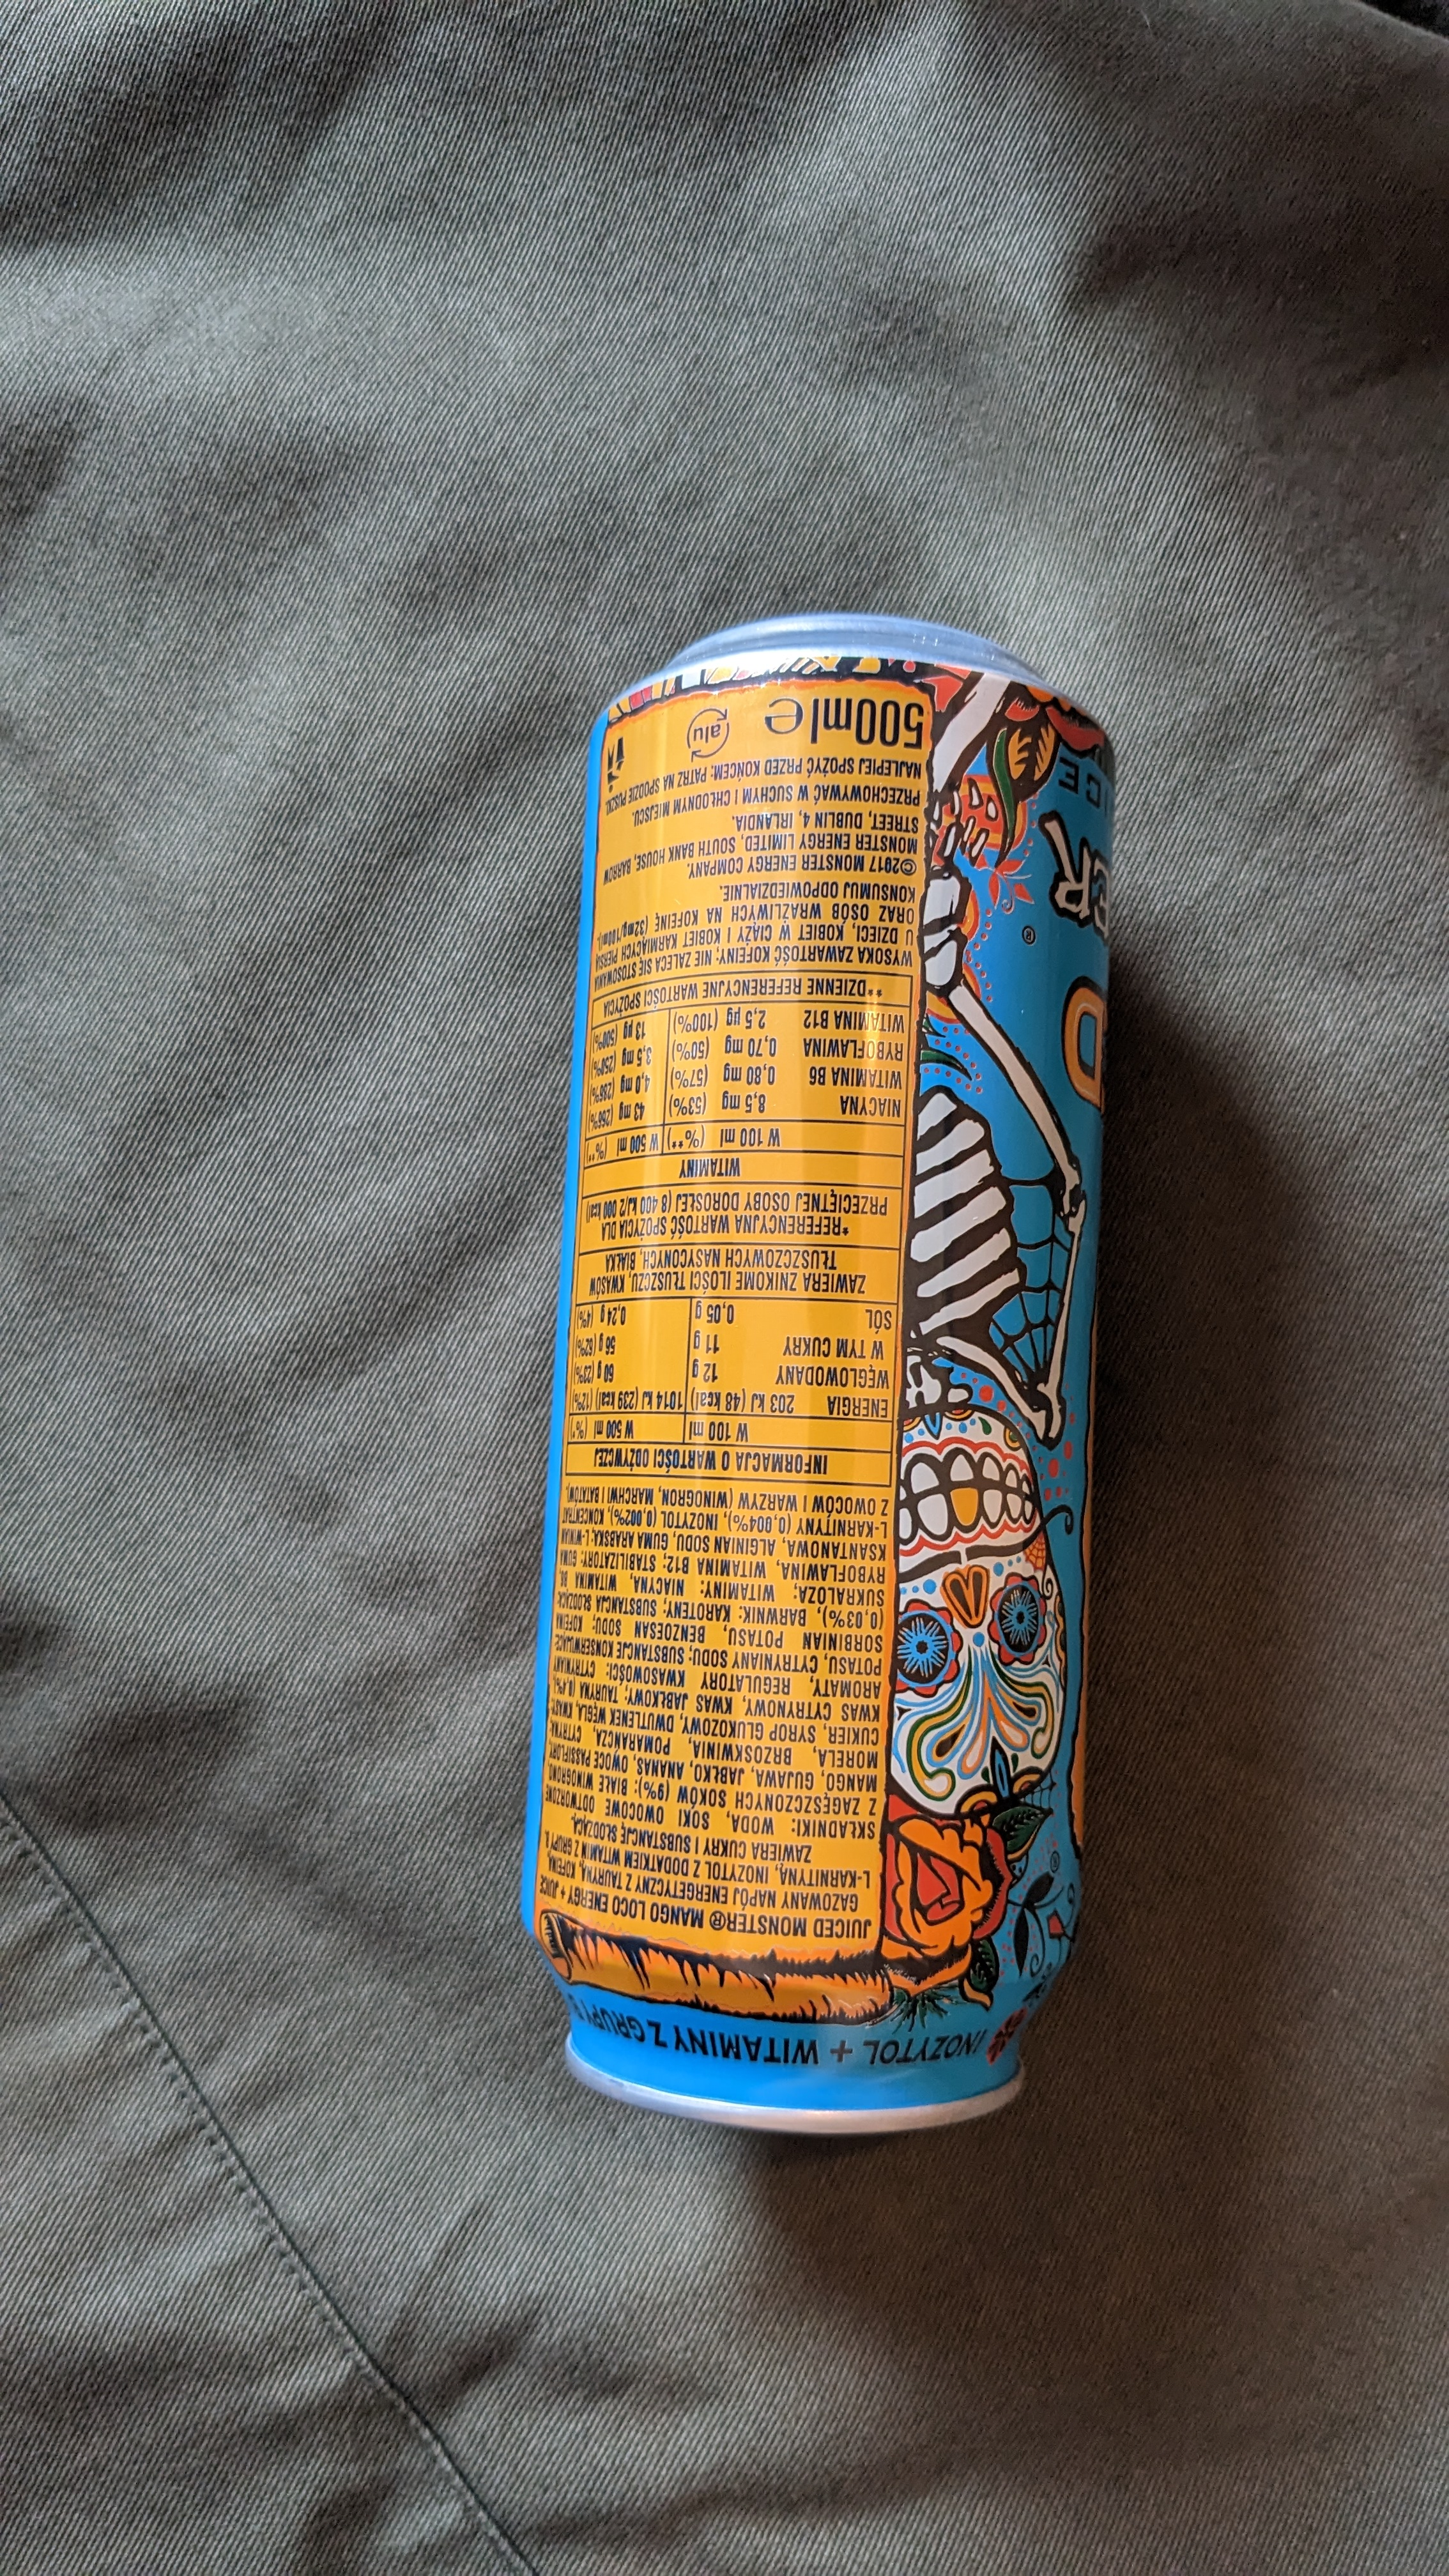monster: (547, 596, 1143, 2166)
